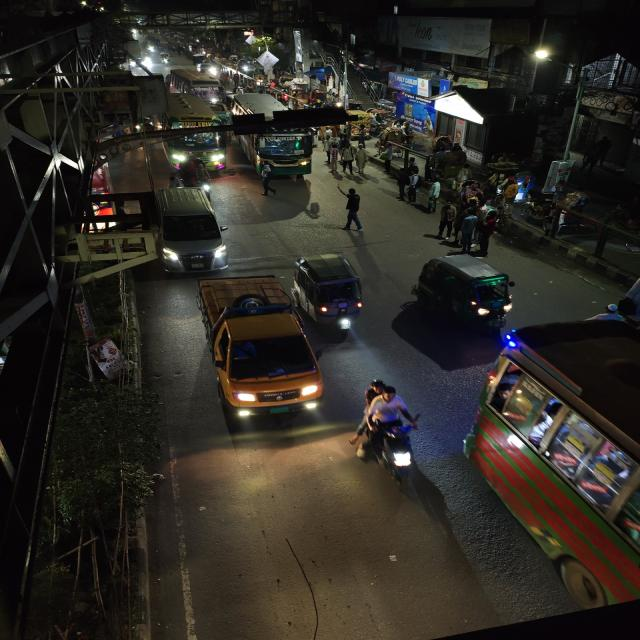bus: (464, 318, 639, 610), (245, 114, 322, 182), (163, 114, 235, 170), (171, 70, 225, 106)
car: (153, 182, 228, 278)
cng: (410, 251, 522, 331), (289, 252, 369, 334)
motorcycle: (354, 376, 419, 488)
pedestrian: (340, 187, 368, 230), (472, 213, 502, 253), (253, 161, 282, 200), (429, 192, 450, 234), (394, 167, 418, 202), (457, 213, 479, 251), (436, 200, 457, 238), (336, 144, 359, 178), (424, 175, 444, 212), (404, 164, 422, 202), (322, 144, 340, 168)
pickup_van: (192, 274, 324, 425)
